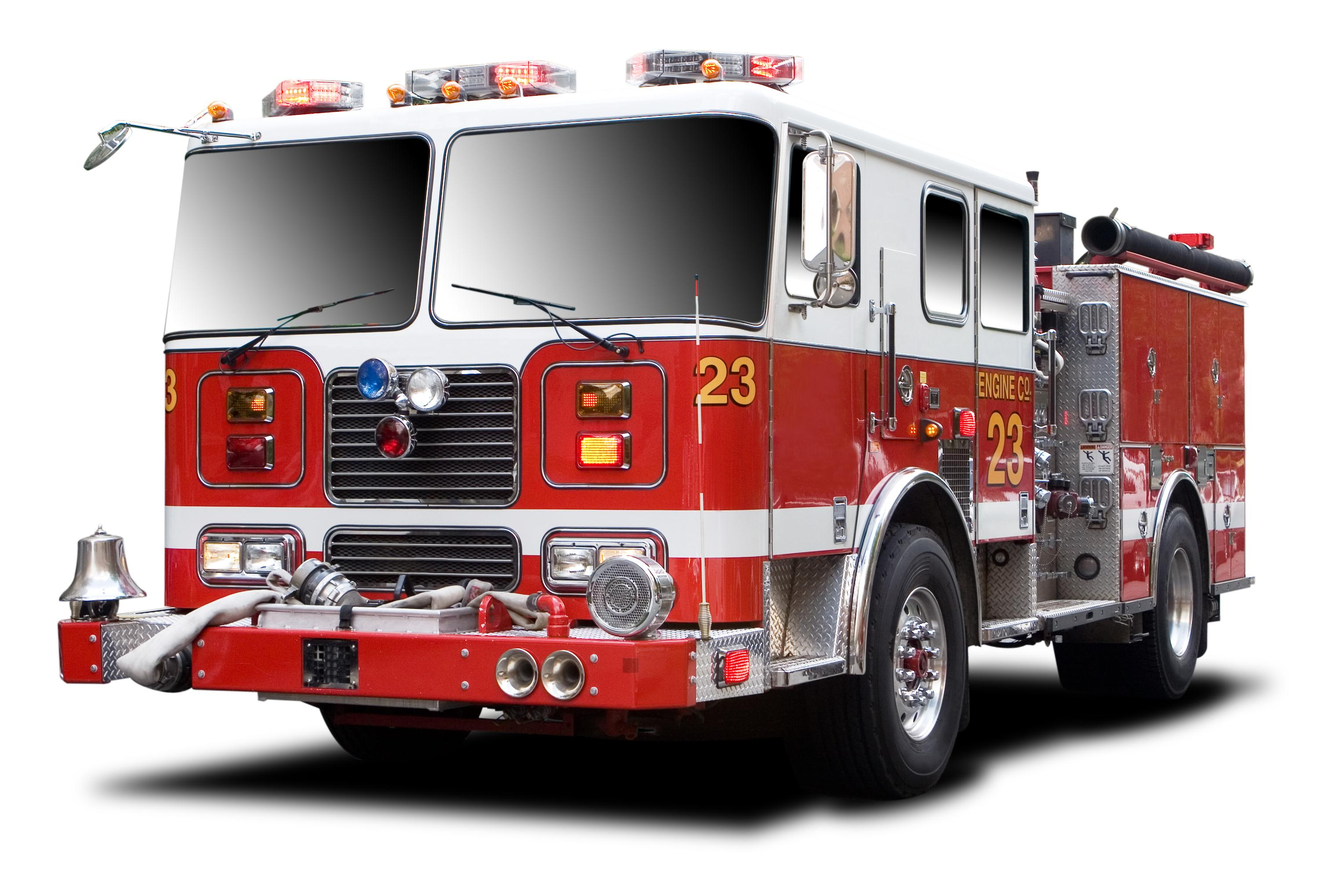Fire-engine: (57, 47, 1256, 802)
